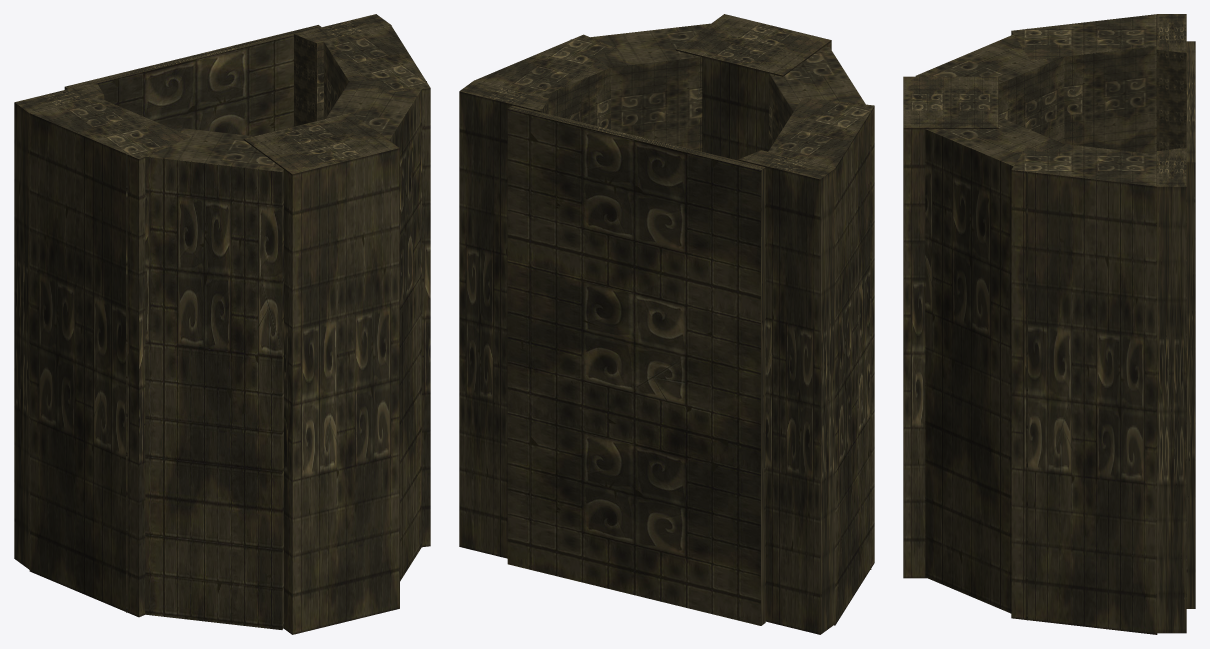
File: cooridordp_wtf.obj
3 renders of one model, left to right at view 1: azimuth 30°, elevation 25°; view 2: azimuth 150°, elevation 25°; view 3: azimuth 270°, elevation 25°, orthographic. The views are drawn at different scales.
Visible parts, largest first — view 1: group2; view 2: group2; view 3: group2.
Part boxes in pixels (left/top/right/bottom): group2: left=14, top=14, right=430, bottom=634; group2: left=459, top=14, right=874, bottom=634; group2: left=903, top=14, right=1195, bottom=634.
Bounding box in the file's own units: 543 × 660 × 388.
